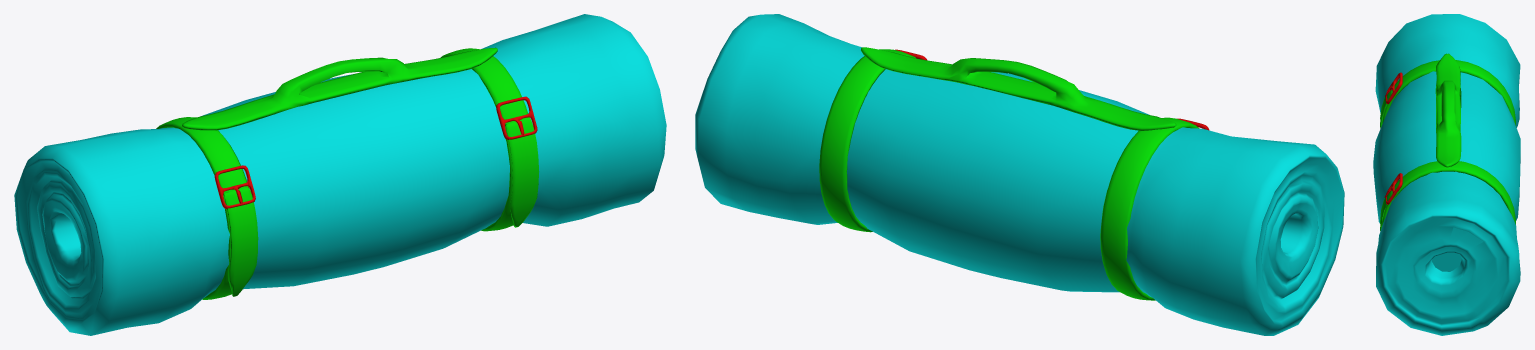
The model's file is SM_bedroll_DS.fbx.
The picture shows the model from 3 angles, left to right: view 1: azimuth 30°, elevation 25°; view 2: azimuth 150°, elevation 25°; view 3: azimuth 270°, elevation 25°; orthographic projection. The views are drawn at different scales.
Visible parts, largest first — view 1: Bedroll_low; view 2: Bedroll_low; view 3: Bedroll_low.
Boxes of the visible parts, x1=… form: Bedroll_low: x1=14, y1=14, x2=666, y2=335; Bedroll_low: x1=695, y1=14, x2=1344, y2=335; Bedroll_low: x1=1373, y1=14, x2=1520, y2=335.
Bounding box in the file's own units: 75.76 × 26.24 × 23.49.
